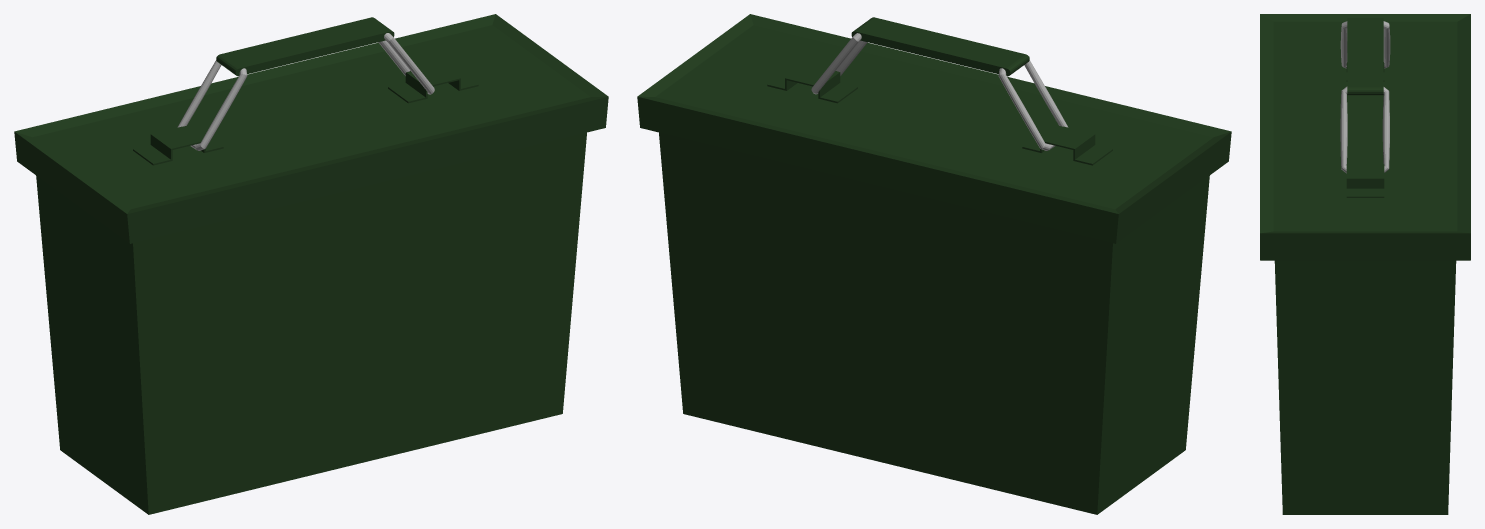
The model's file is AmmoBox.fbx.
The picture shows the model from 3 angles, left to right: view 1: azimuth 30°, elevation 25°; view 2: azimuth 150°, elevation 25°; view 3: azimuth 270°, elevation 25°; orthographic projection. The views are drawn at different scales.
Parts seen in each view (by area): view 1: Cube, Cube.003, Cube.001, Cube.002, Cylinder, Cylinder.001; view 2: Cube, Cube.003, Cube.001, Cube.002, Cylinder, Cylinder.001; view 3: Cube, Cube.003, Cube.002, Cylinder.001, Cylinder.
Boxes of the visible parts, x1=… form: Cube: x1=14, y1=14, x2=608, y2=514; Cube.003: x1=216, y1=17, x2=394, y2=76; Cube.001: x1=133, y1=126, x2=223, y2=165; Cube.002: x1=388, y1=63, x2=478, y2=103; Cylinder: x1=177, y1=60, x2=247, y2=150; Cylinder.001: x1=378, y1=33, x2=434, y2=94; Cube: x1=637, y1=14, x2=1231, y2=514; Cube.003: x1=851, y1=17, x2=1029, y2=76; Cube.001: x1=1022, y1=126, x2=1112, y2=165; Cube.002: x1=767, y1=63, x2=857, y2=103; Cylinder: x1=998, y1=60, x2=1068, y2=150; Cylinder.001: x1=811, y1=33, x2=867, y2=94; Cube: x1=1260, y1=14, x2=1470, y2=514; Cube.003: x1=1347, y1=18, x2=1383, y2=95; Cube.002: x1=1346, y1=162, x2=1384, y2=197; Cylinder.001: x1=1340, y1=86, x2=1389, y2=173; Cylinder: x1=1340, y1=21, x2=1390, y2=68.
Bounding box in the file's own units: 136 × 105 × 55.09.
